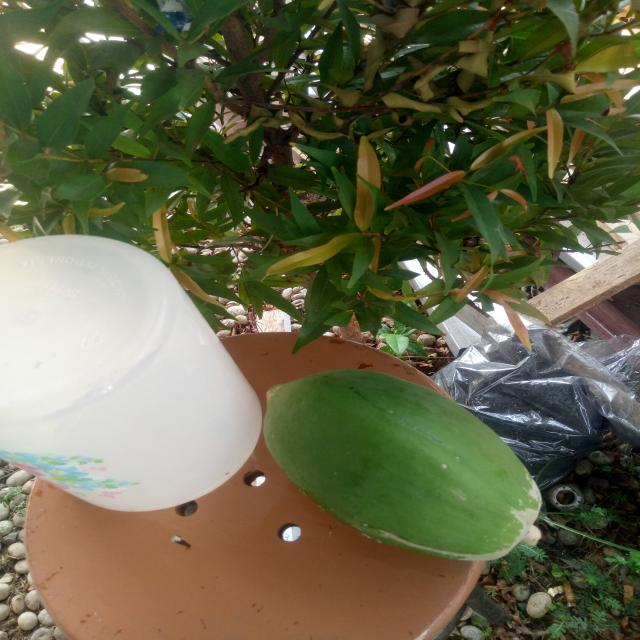Pepaya unrippen: (246, 363, 559, 571)
